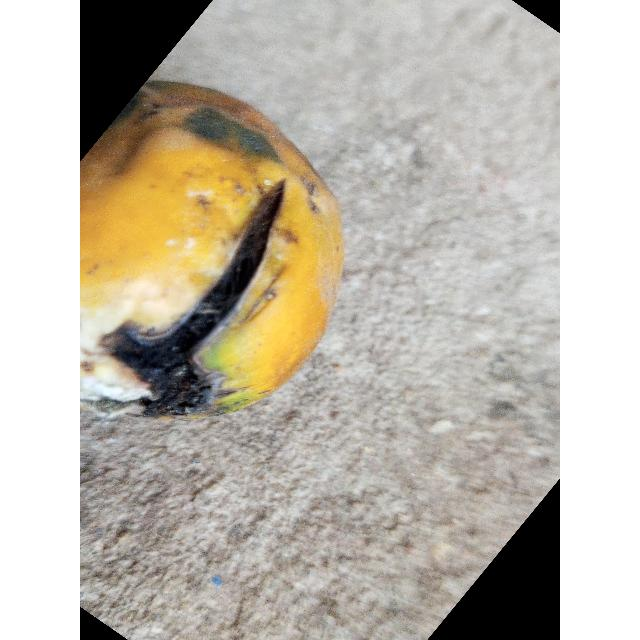damaged: (80, 82, 344, 419)
